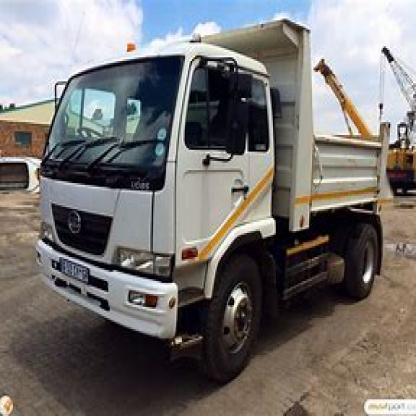dump_truck: (23, 13, 389, 370)
